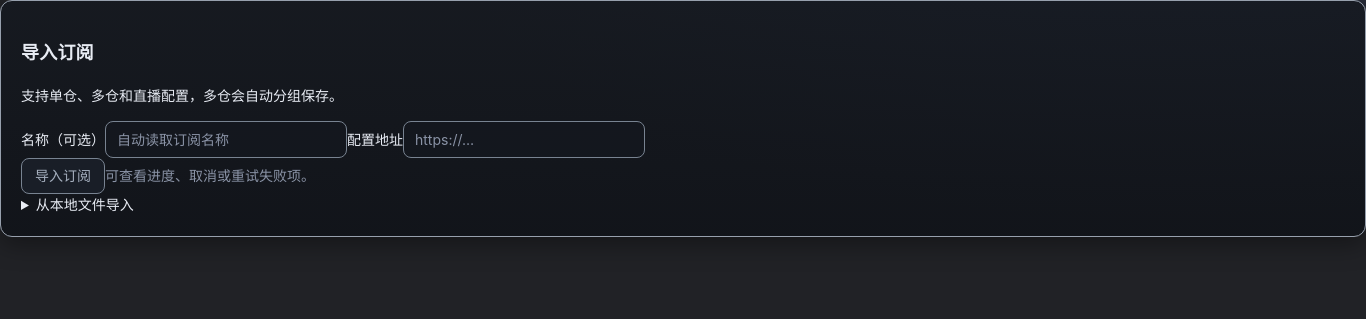
Test: SubscriptionImportSection › keeps subscription import errors in the import workflow feedback
What coordinates should you click on to do the following:
click the heading "从本地文件导入"
I would click on:
 (85, 204)
Its box is top-left (36, 196), bottom-right (134, 213).
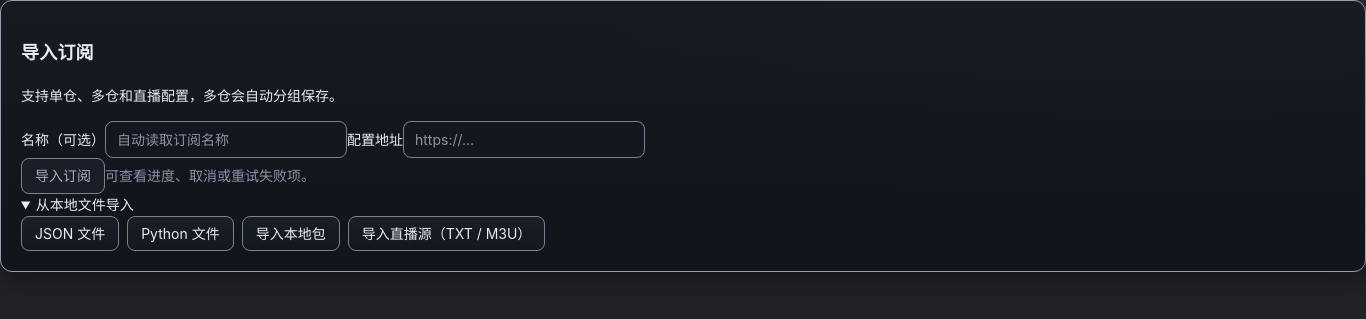
What coordinates should you click on to do the following:
click the button "JSON 文件"
I would click on:
 (70, 233)
Its box is top-left (21, 216), bottom-right (119, 251).
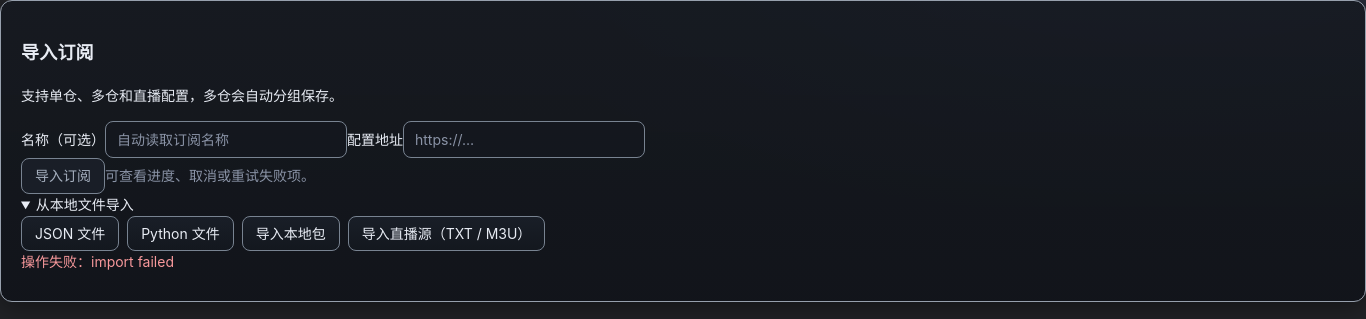
Result: the message reads "操作失败：import failed" at top-left (21, 253), bottom-right (174, 270)
